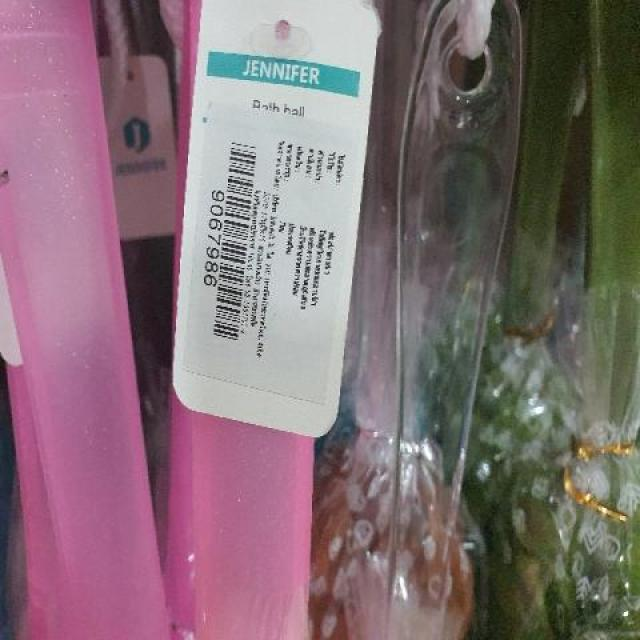Barcode: (198, 127, 262, 369)
